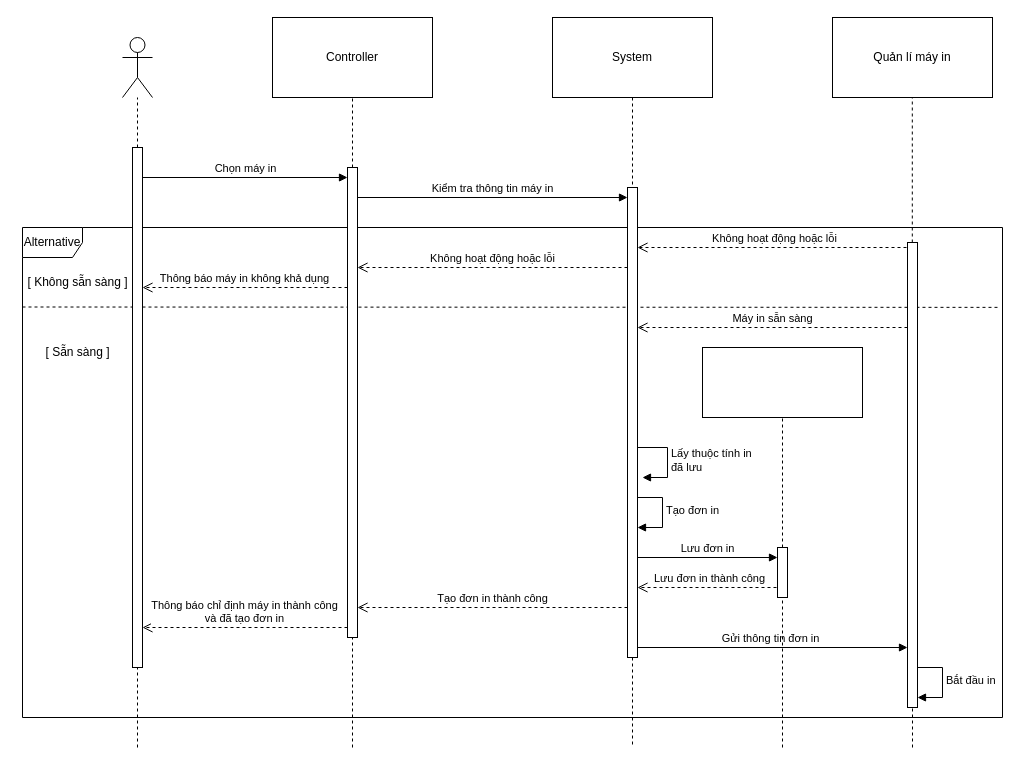
This 1020x766 diagram has some shape labels left out. Here are the shapes that lost their labels. From the top down, the centre of each, then its label:
At (x=137, y=67): "Sinh viên".
At (x=782, y=382): "Database".
